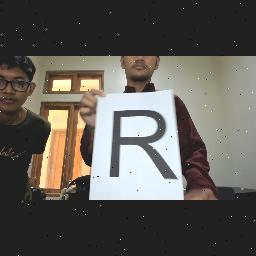r: (107, 106, 185, 186)
